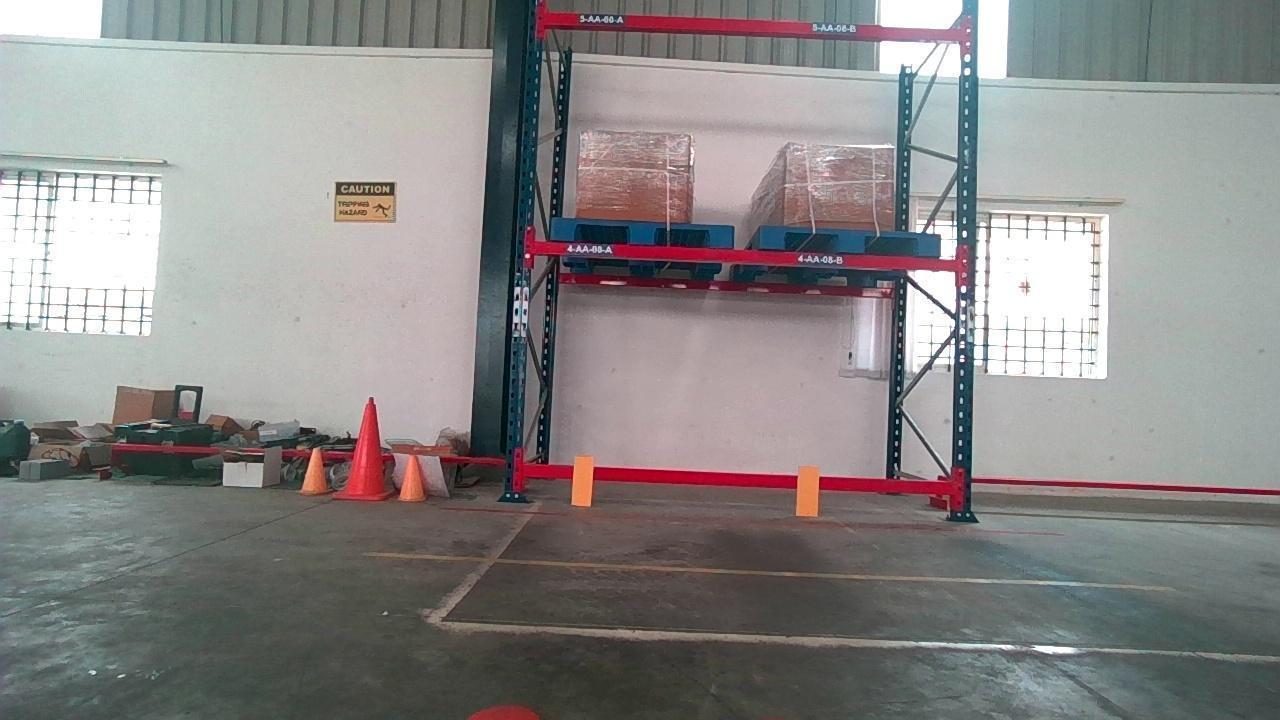h_rack: (551, 8, 963, 44), (513, 467, 954, 495), (533, 242, 967, 270)
orange_strip: (795, 465, 820, 515), (570, 456, 594, 508)
small_pallet: (545, 219, 736, 244), (755, 227, 944, 252)
yellow_line: (362, 549, 1164, 592)
